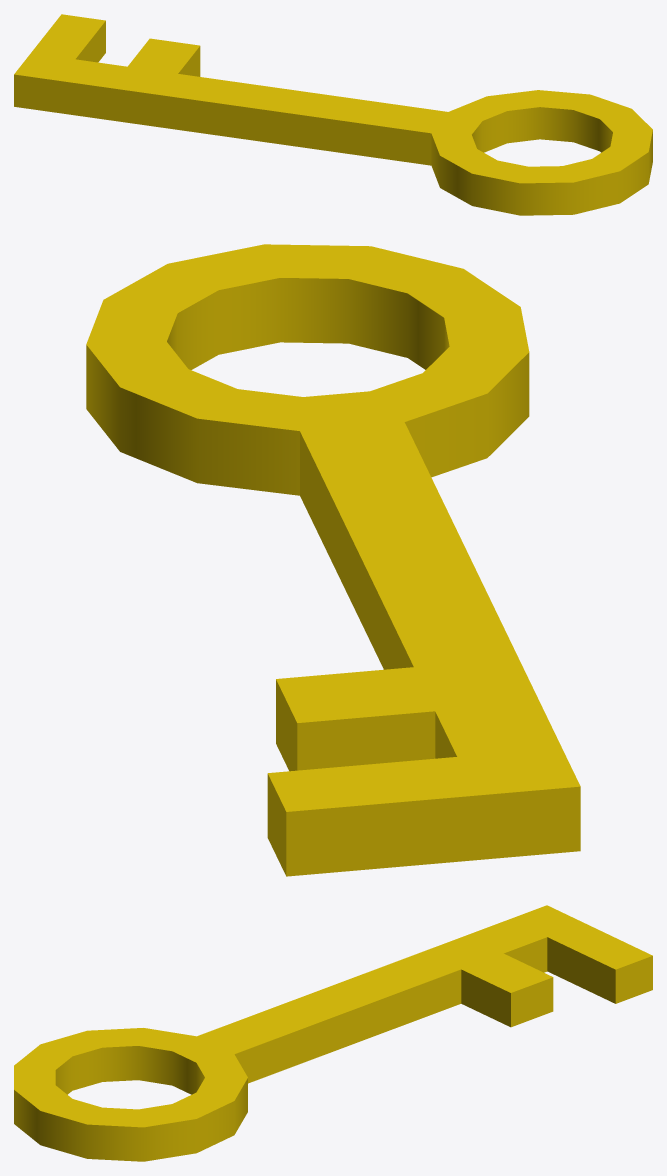
File: key.fbx
3 views of the same model, one above another, from view 1: azimuth 30°, elevation 25°; view 2: azimuth 150°, elevation 25°; view 3: azimuth 270°, elevation 25° (orthographic). The views are drawn at different scales.
Visible parts, largest first — view 1: Cylinder; view 2: Cylinder; view 3: Cylinder.
Boxes of the visible parts, box(x1,y1,x2,y2) form: Cylinder: box(14, 14, 652, 215); Cylinder: box(86, 244, 580, 876); Cylinder: box(14, 905, 652, 1161).
Bounding box in the file's own units: 443 × 31.91 × 538.
